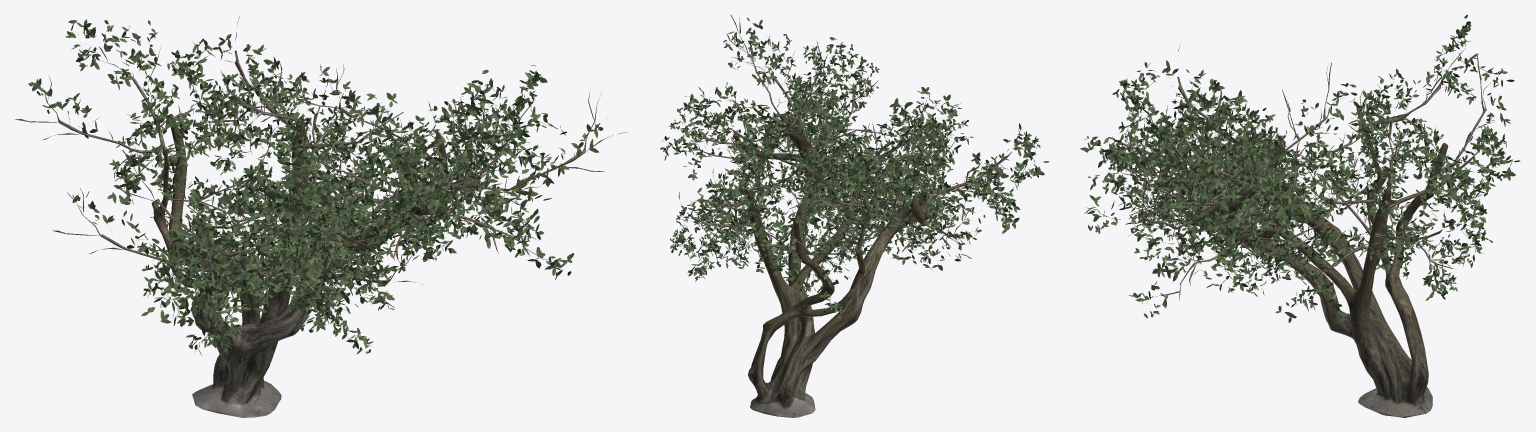
Rendered from olive_tree_wide_far.glb.
3 renders of one model, left to right at view 1: azimuth 30°, elevation 25°; view 2: azimuth 150°, elevation 25°; view 3: azimuth 270°, elevation 25°, orthographic. The views are drawn at different scales.
Parts seen in each view (by area): view 1: island_tree_02_mesh; view 2: island_tree_02_mesh; view 3: island_tree_02_mesh.
Part boxes in pixels (<box>): island_tree_02_mesh: <box>15,16,628,417</box>; island_tree_02_mesh: <box>660,15,1049,417</box>; island_tree_02_mesh: <box>1080,15,1519,417</box>.
Bounding box in the file's own units: 4.21 × 3.4 × 4.11.
3 materials, 3 textured.
